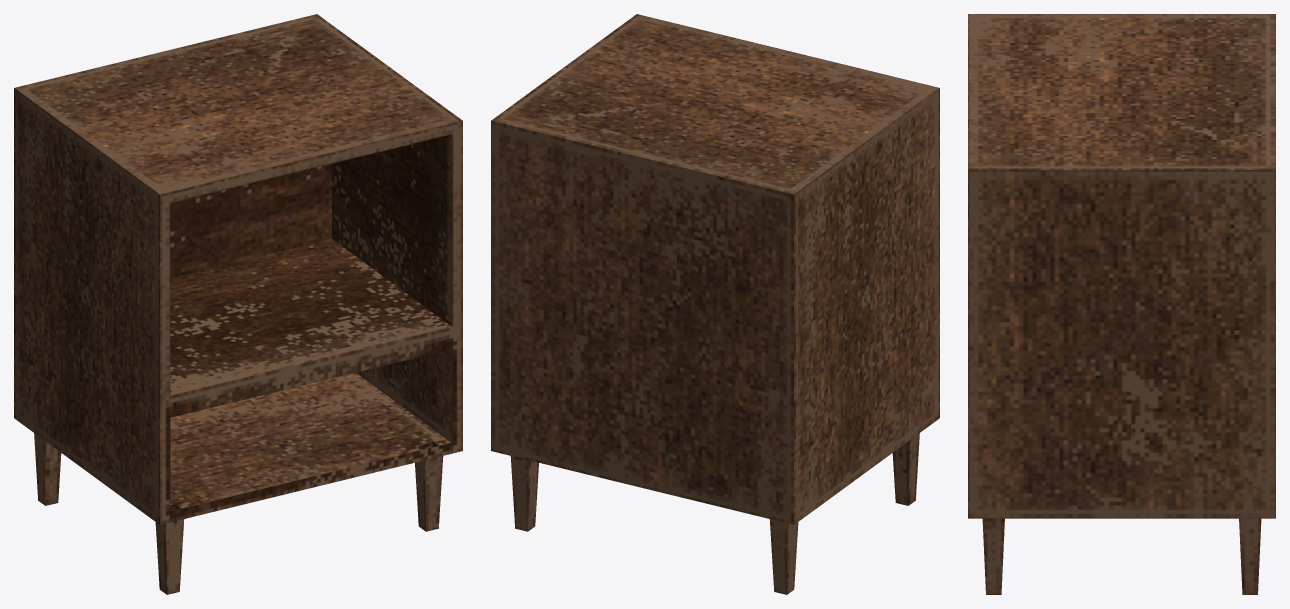
The model's file is NightStand.fbx.
3 views of the same model, side by side, from view 1: azimuth 30°, elevation 25°; view 2: azimuth 150°, elevation 25°; view 3: azimuth 270°, elevation 25° (orthographic). The views are drawn at different scales.
Visible parts, largest first — view 1: NightStandBase; view 2: NightStandBase; view 3: NightStandBase.
Boxes of the visible parts, left/top/right/bottom form: NightStandBase: left=14, top=14, right=462, bottom=594; NightStandBase: left=491, top=14, right=939, bottom=594; NightStandBase: left=968, top=14, right=1275, bottom=594.
Size of the model in its own units: 34.77 by 41.72 by 53.99.
